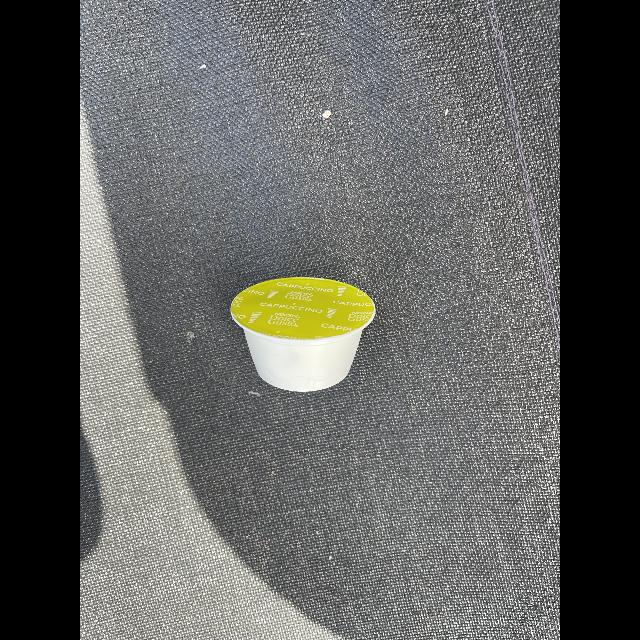intact_capsule: (216, 266, 380, 412)
